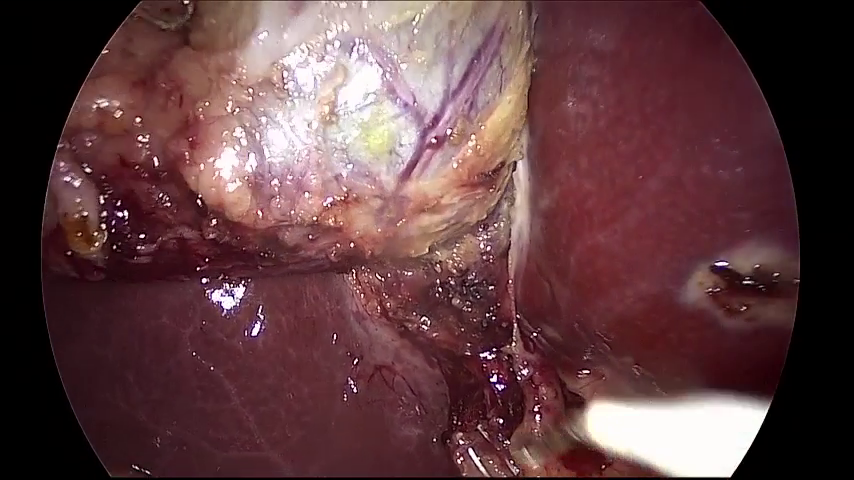grasper: (133, 1, 192, 25)
lhook: (524, 395, 771, 477)
